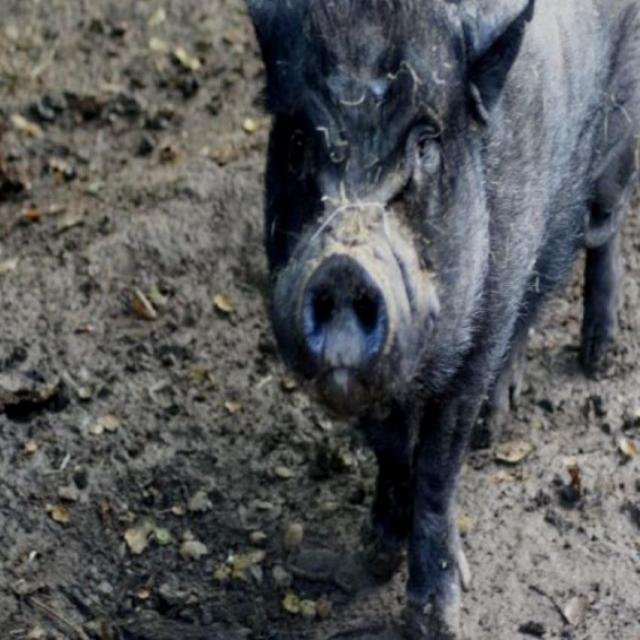pig: (249, 2, 640, 636)
